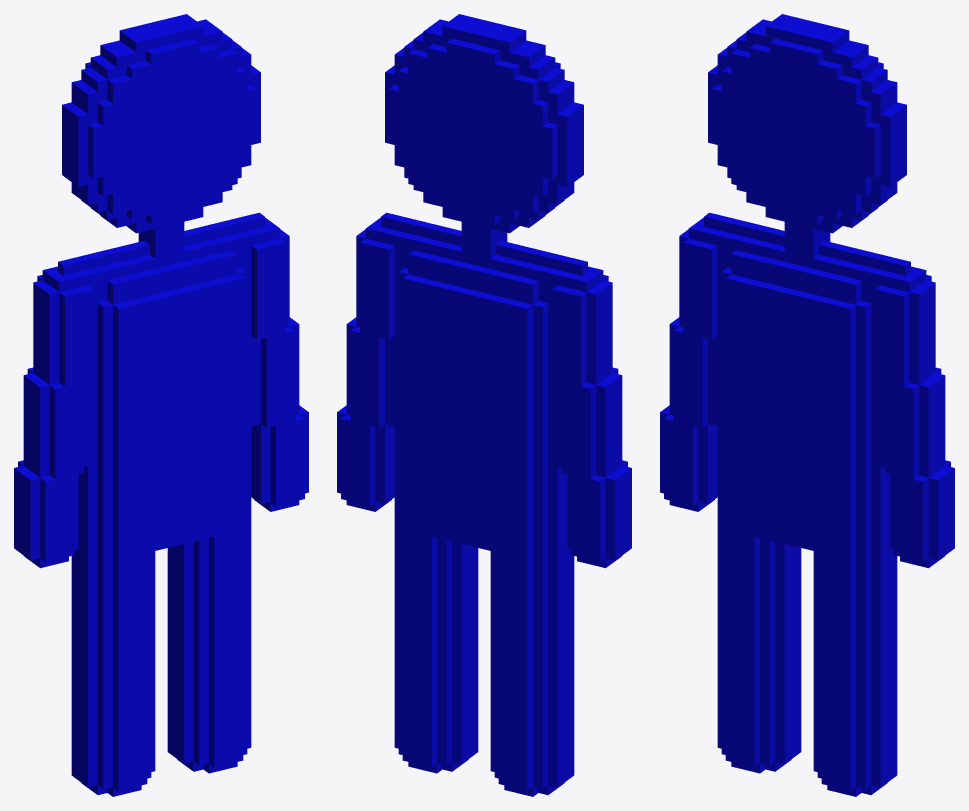
File: teapot-3.obj
3 views of the same model, side by side, from view 1: azimuth 30°, elevation 25°; view 2: azimuth 150°, elevation 25°; view 3: azimuth 330°, elevation 25° (orthographic).
Size of the model in its own units: 2.9 by 7.4 by 0.7.
1 material, 1 textured.
